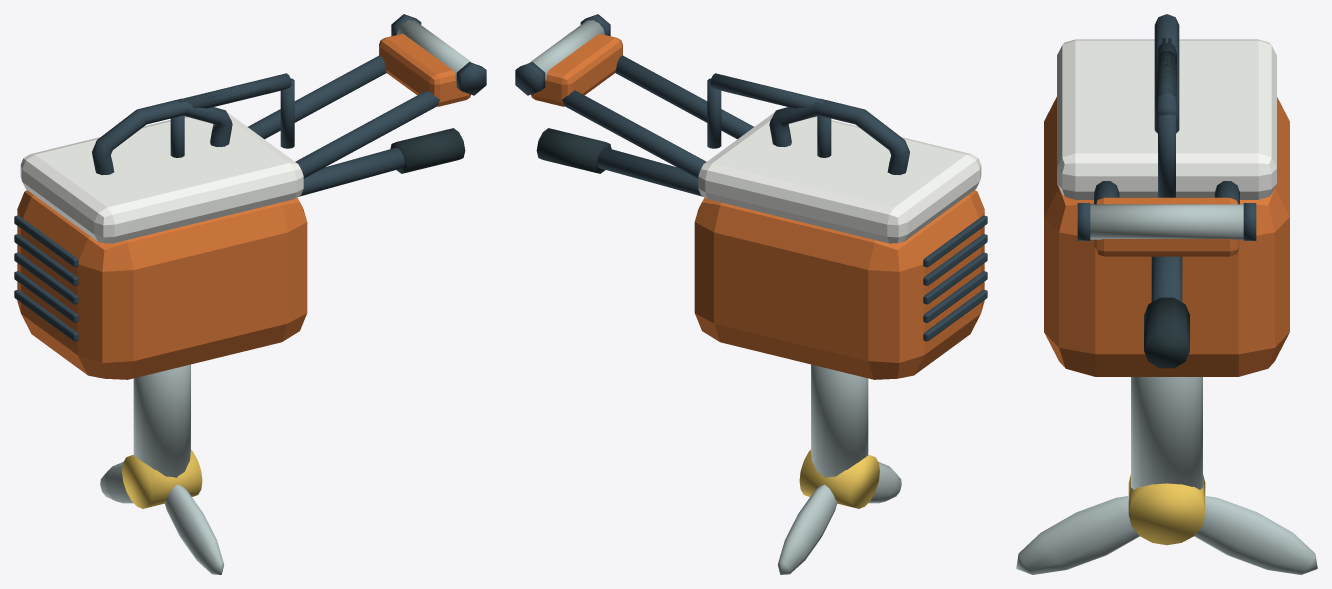
Rendered from drive.glb.
3 views of the same model, side by side, from view 1: azimuth 30°, elevation 25°; view 2: azimuth 150°, elevation 25°; view 3: azimuth 270°, elevation 25° (orthographic). The views are drawn at different scales.
Visible parts, largest first — view 1: tyaga-drive-surface, mount-clamp-surface, propeller-surface, tiller-surface, balanced-carry-handle-surface; view 2: tyaga-drive-surface, mount-clamp-surface, propeller-surface, tiller-surface, balanced-carry-handle-surface; view 3: tyaga-drive-surface, propeller-surface, mount-clamp-surface, tiller-surface, balanced-carry-handle-surface.
Part boxes in pixels (<box>): tyaga-drive-surface: <box>14,98,307,477</box>; mount-clamp-surface: <box>248,14,486,178</box>; propeller-surface: <box>100,450,223,574</box>; tiller-surface: <box>298,128,465,196</box>; balanced-carry-handle-surface: <box>170,73,294,157</box>; tyaga-drive-surface: <box>694,98,987,477</box>; mount-clamp-surface: <box>515,14,753,178</box>; propeller-surface: <box>778,450,901,574</box>; tiller-surface: <box>536,128,703,196</box>; balanced-carry-handle-surface: <box>707,73,831,157</box>; tyaga-drive-surface: <box>1044,14,1289,489</box>; propeller-surface: <box>1016,474,1317,574</box>; mount-clamp-surface: <box>1077,181,1256,256</box>; tiller-surface: <box>1144,256,1189,368</box>; balanced-carry-handle-surface: <box>1157,38,1176,197</box>.
Size of the model in its own units: 1.2 by 1.2 by 0.6.
